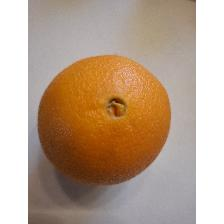Orange: (36, 50, 172, 188)
